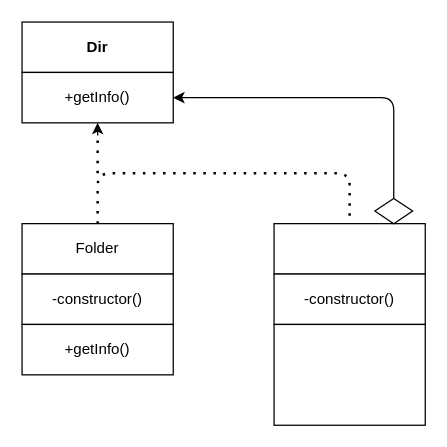
The diagram is 447 pixels wide and 447 high, and some of its shapes have lost their labels. The shapes that lost their labels are listed below. From the top down, each one's box as (x1, y1, x2, y2) in pixels, then its label:
(273, 222, 425, 274): FolderComposite
(273, 323, 425, 425): +addFolder() +removeField() +getInfo()
